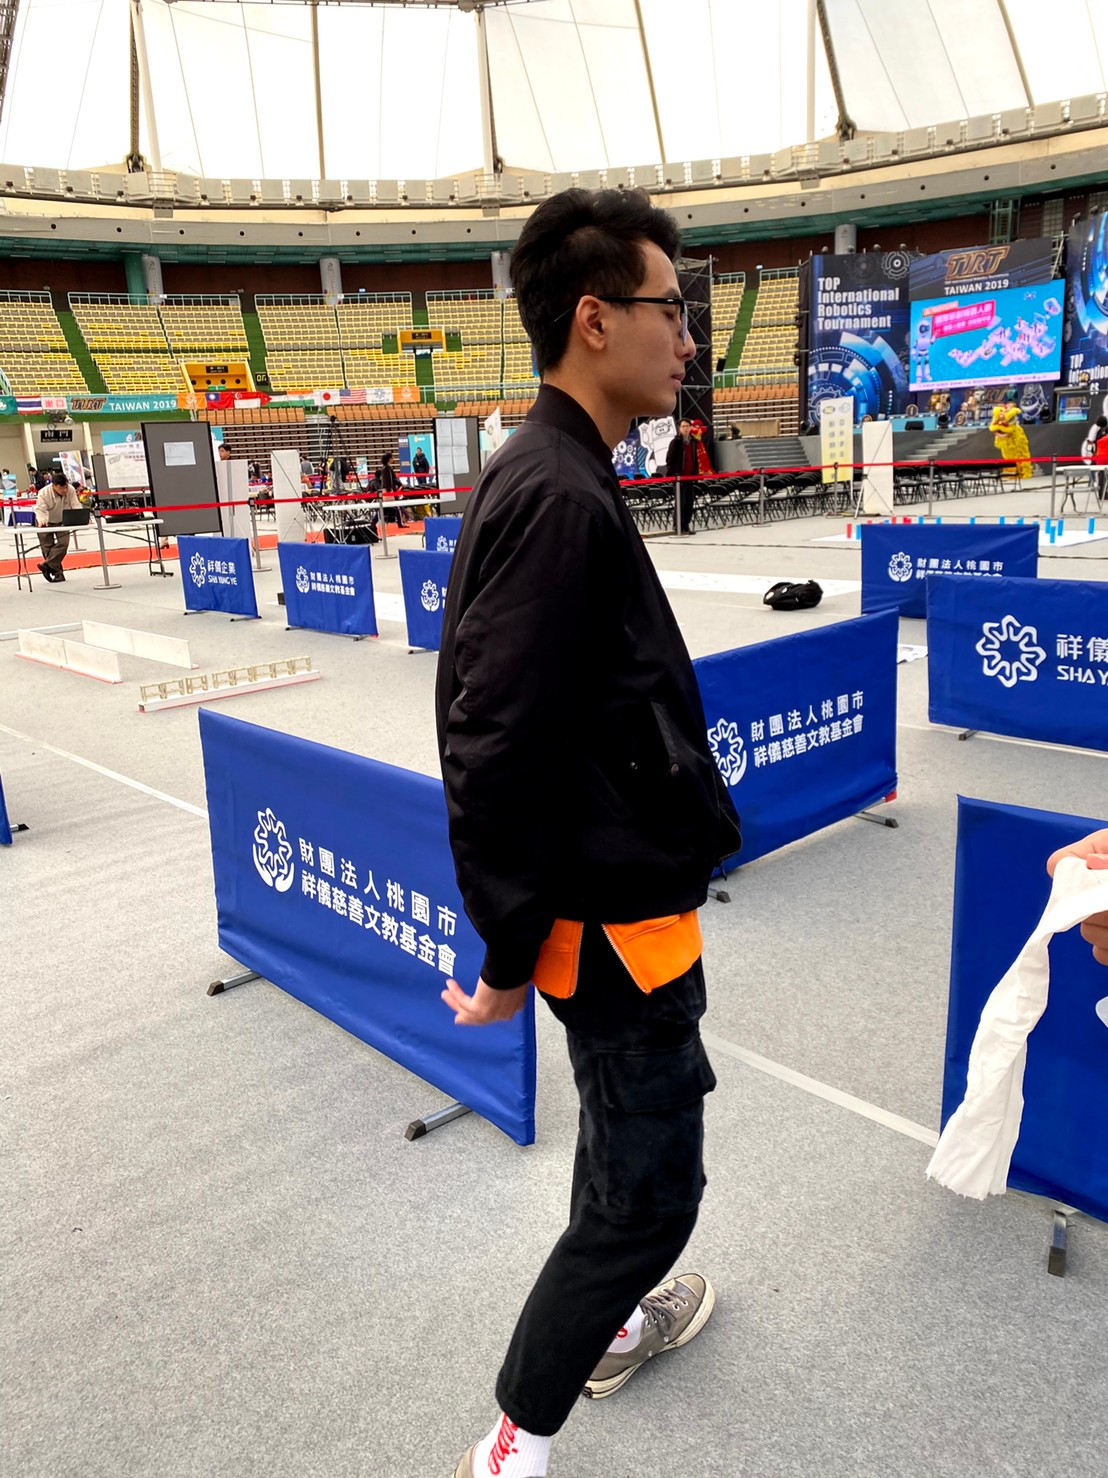people: (462, 193, 745, 1462), (33, 478, 93, 595)
